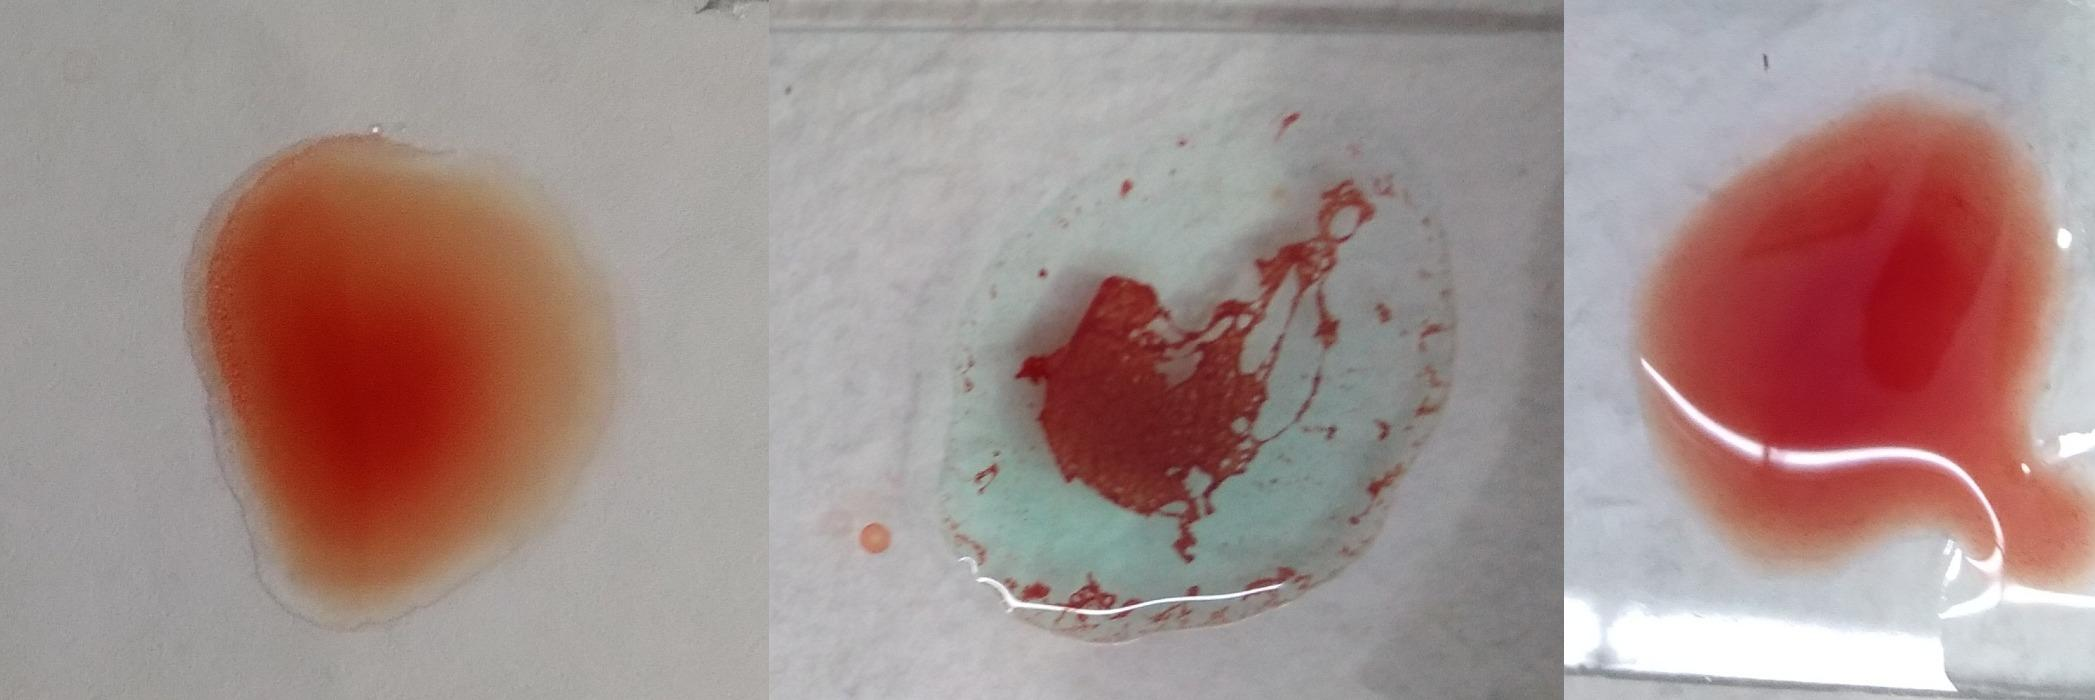A: (945, 68, 1444, 627)
